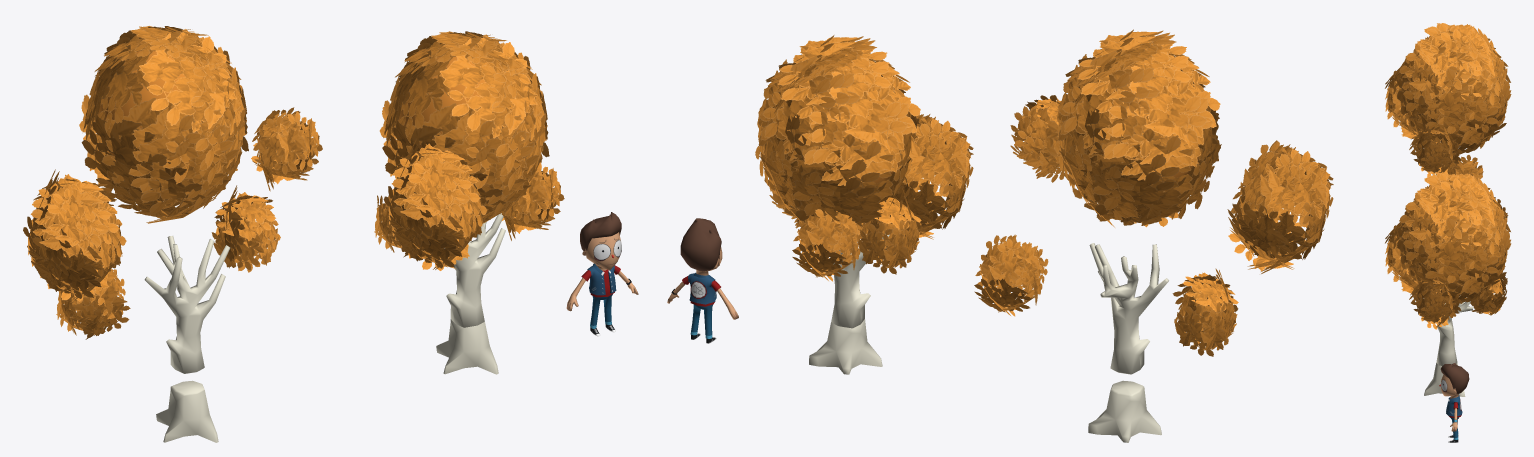
Rendered from birchv2.fbx.
The picture shows the model from 3 angles, left to right: view 1: azimuth 30°, elevation 25°; view 2: azimuth 150°, elevation 25°; view 3: azimuth 270°, elevation 25°; orthographic projection. The views are drawn at different scales.
Visible parts, largest first — view 1: leaf1.001, leaf1, leaf2.001, leaf2, birchtrunk.001, leaf4.001, leaf3.001, chara_flat, birchtrunk, leaf5.001, birchstump.001, leaf3 (+2 smaller); view 2: leaf1.001, leaf1, leaf2.001, leaf2, birchtrunk.001, leaf4.001, leaf5.001, chara_flat, leaf4, leaf5, leaf3.001, birchstump.001 (+2 smaller); view 3: leaf1, leaf1.001, leaf3.001, leaf3, chara_flat, leaf2, leaf2.001, leaf4, birchtrunk, leaf5.001, birchstump.
Boxes of the visible parts, bbox=[...] form: leaf1.001: bbox=[79, 26, 248, 223]; leaf1: bbox=[379, 31, 549, 222]; leaf2.001: bbox=[23, 169, 126, 301]; leaf2: bbox=[383, 139, 487, 270]; birchtrunk.001: bbox=[144, 236, 230, 373]; leaf4.001: bbox=[211, 185, 280, 272]; leaf3.001: bbox=[251, 107, 322, 191]; chara_flat: bbox=[566, 212, 638, 336]; birchtrunk: bbox=[444, 213, 505, 327]; leaf5.001: bbox=[56, 268, 130, 339]; birchstump.001: bbox=[156, 380, 218, 442]; leaf3: bbox=[500, 161, 564, 240]; leaf1.001: bbox=[1055, 29, 1221, 227]; leaf1: bbox=[755, 35, 920, 226]; leaf2.001: bbox=[1227, 140, 1333, 273]; leaf2: bbox=[886, 113, 973, 239]; birchtrunk.001: bbox=[1089, 243, 1168, 374]; leaf4.001: bbox=[974, 234, 1048, 316]; leaf5.001: bbox=[1172, 268, 1238, 356]; chara_flat: bbox=[667, 218, 738, 343]; leaf4: bbox=[792, 209, 863, 281]; leaf5: bbox=[857, 188, 921, 274]; leaf3.001: bbox=[1010, 95, 1064, 182]; birchstump.001: bbox=[1088, 380, 1161, 442]; leaf1: bbox=[1397, 172, 1511, 303]; leaf1.001: bbox=[1397, 23, 1511, 154]; leaf3.001: bbox=[1409, 126, 1462, 176]; leaf3: bbox=[1409, 278, 1462, 329]; chara_flat: bbox=[1439, 363, 1469, 442]; leaf2: bbox=[1385, 222, 1431, 293]; leaf2.001: bbox=[1385, 51, 1418, 139]; leaf4: bbox=[1464, 272, 1507, 315]; birchtrunk: bbox=[1436, 301, 1472, 365]; leaf5.001: bbox=[1436, 154, 1483, 181]; birchstump: bbox=[1424, 363, 1465, 396].
Bounding box in the file's own units: 1335 × 840 × 389.
